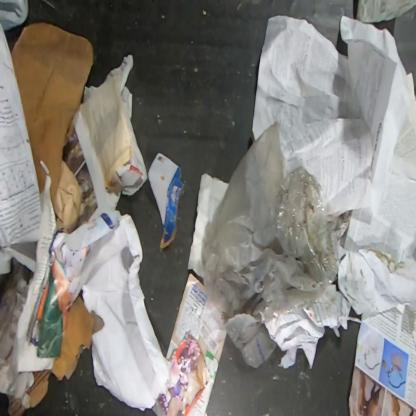cardboard: (11, 21, 94, 204), (51, 295, 95, 381), (148, 152, 184, 248), (6, 370, 51, 415)
soft_plastic: (202, 120, 346, 369), (0, 257, 35, 407), (356, 0, 415, 24)
